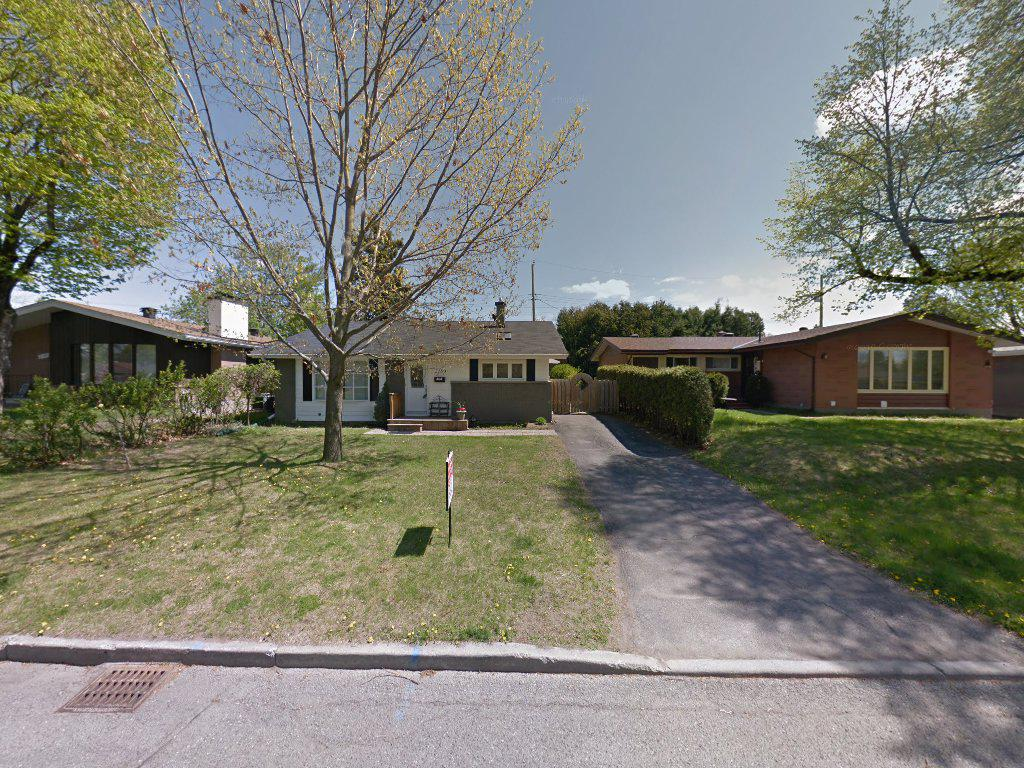trunk: (323, 278, 350, 476)
